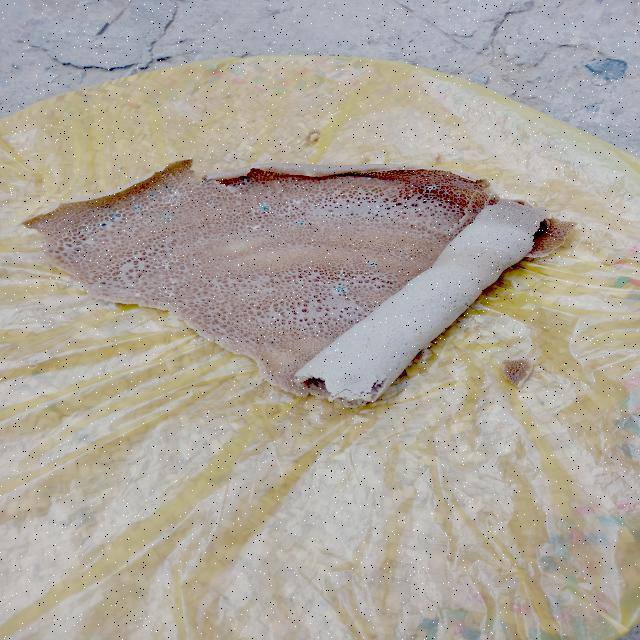injera_mold: (154, 258, 181, 270), (158, 286, 176, 300), (290, 197, 308, 207), (258, 202, 272, 214), (334, 270, 347, 280), (109, 212, 121, 220), (249, 224, 261, 232), (335, 286, 347, 294), (424, 185, 438, 191), (172, 190, 182, 198), (133, 204, 143, 212), (369, 261, 379, 269), (202, 180, 212, 188), (161, 214, 171, 221), (36, 222, 46, 229), (207, 202, 217, 209), (100, 222, 110, 228), (272, 232, 282, 238), (132, 292, 142, 298), (104, 203, 112, 210), (160, 195, 168, 202), (79, 229, 89, 234), (75, 247, 82, 254), (298, 220, 305, 227), (147, 218, 154, 225), (306, 172, 314, 178), (145, 204, 151, 211), (169, 198, 176, 204), (130, 196, 136, 202), (266, 258, 272, 264), (204, 176, 213, 180), (182, 194, 188, 200), (164, 184, 171, 189), (314, 282, 322, 286), (159, 204, 167, 208), (64, 244, 70, 249), (401, 200, 406, 206), (366, 177, 373, 181), (328, 348, 335, 352), (169, 238, 174, 243), (150, 194, 156, 198), (214, 266, 220, 270), (168, 277, 174, 281), (312, 203, 318, 207), (77, 244, 84, 247), (243, 178, 247, 183), (92, 286, 102, 288), (375, 205, 379, 209), (435, 203, 439, 207), (143, 294, 147, 298), (174, 273, 179, 276), (156, 190, 163, 192), (216, 172, 222, 174), (191, 187, 194, 191), (219, 220, 224, 222), (233, 186, 238, 188), (301, 229, 304, 232), (291, 212, 294, 215), (410, 190, 414, 192), (78, 263, 82, 265), (156, 229, 158, 233), (310, 222, 314, 224), (288, 206, 290, 210), (320, 208, 323, 210), (296, 210, 298, 212), (346, 213, 349, 214), (124, 298, 125, 300)
